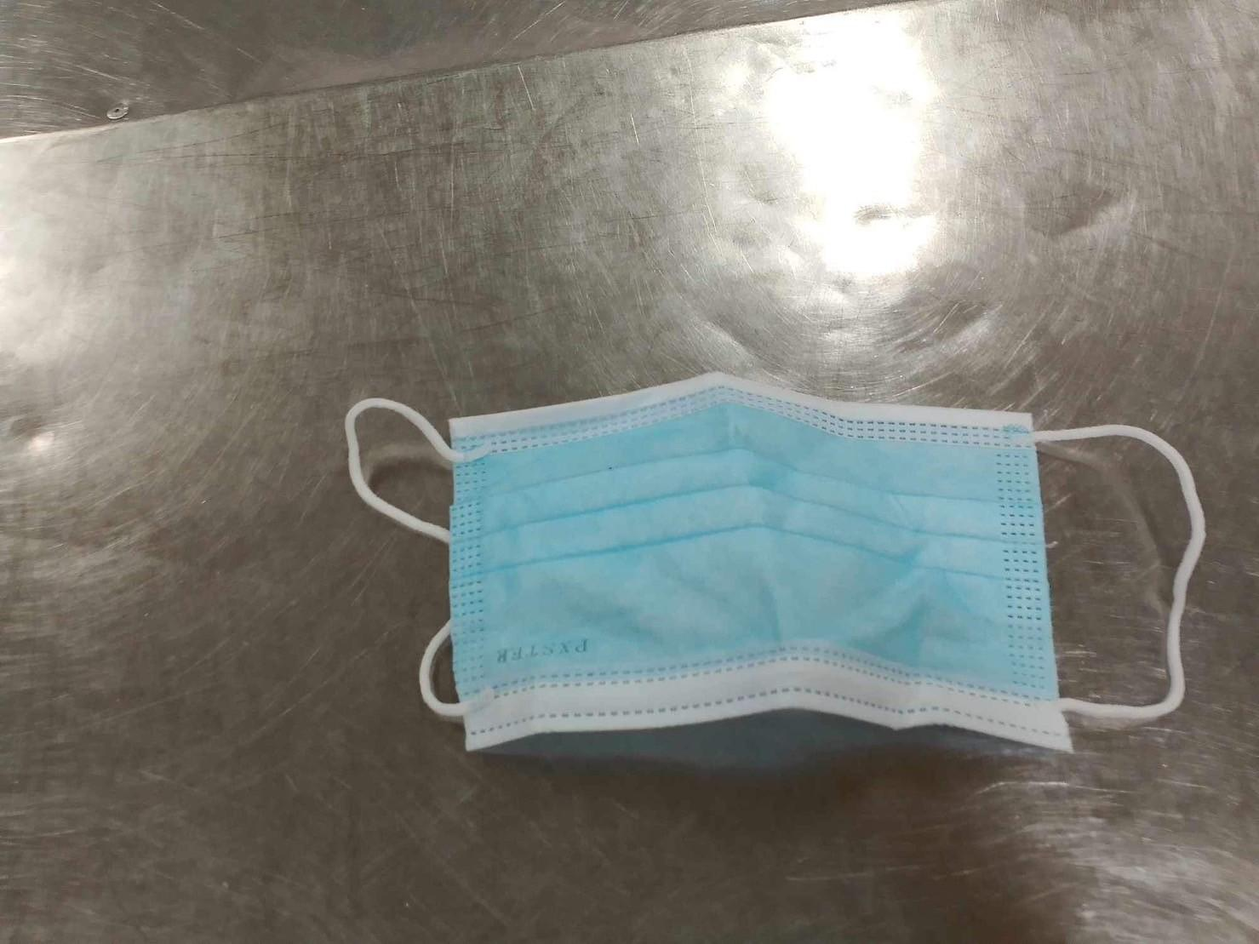Infectious: (344, 369, 1205, 756)
